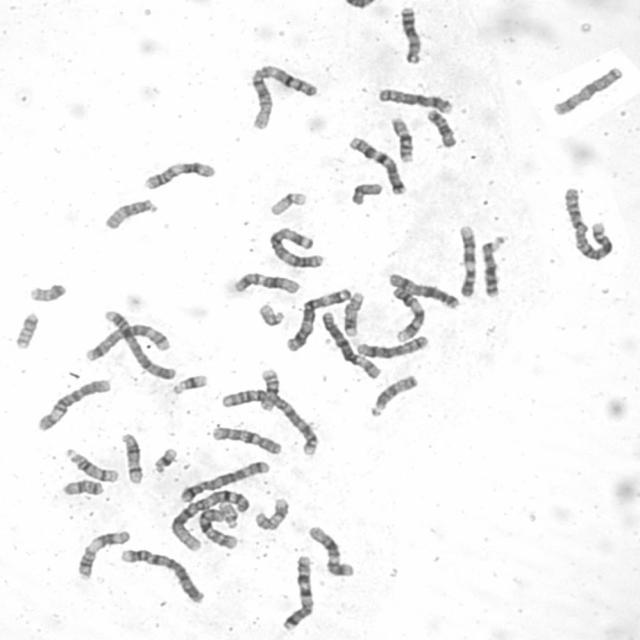A1: (167, 485, 251, 553), (245, 60, 319, 132)
A2: (218, 385, 322, 457), (559, 184, 615, 262)
A3: (282, 284, 353, 354), (265, 223, 326, 269)
B4: (101, 306, 178, 381), (116, 544, 206, 605)
B5: (176, 456, 272, 504), (81, 322, 172, 362)
C10: (208, 423, 284, 456), (195, 503, 239, 550)
C11: (73, 526, 132, 580), (140, 157, 217, 191)
C12: (304, 521, 356, 578), (229, 268, 301, 296)
C6: (317, 308, 383, 380), (32, 375, 112, 433)
C7: (344, 133, 408, 196), (278, 552, 316, 632)
C8: (374, 84, 455, 114), (354, 332, 431, 359)
C9: (388, 284, 427, 344), (454, 221, 479, 299)
D13: (478, 231, 509, 299), (396, 2, 424, 66)
D14: (61, 444, 121, 484), (117, 429, 145, 486)
D15: (365, 372, 420, 419), (100, 195, 160, 231)
E16: (387, 113, 416, 164), (255, 365, 281, 413)
E17: (250, 494, 291, 532), (339, 288, 366, 338)
E18: (423, 106, 458, 149), (62, 477, 105, 499)
F19: (265, 188, 309, 216), (348, 181, 384, 207)
F20: (10, 309, 40, 350), (28, 279, 68, 303)
G21: (168, 370, 210, 396), (149, 444, 179, 475)
G22: (255, 300, 286, 328), (216, 498, 240, 530)
X: (548, 62, 626, 117), (384, 269, 462, 311)
